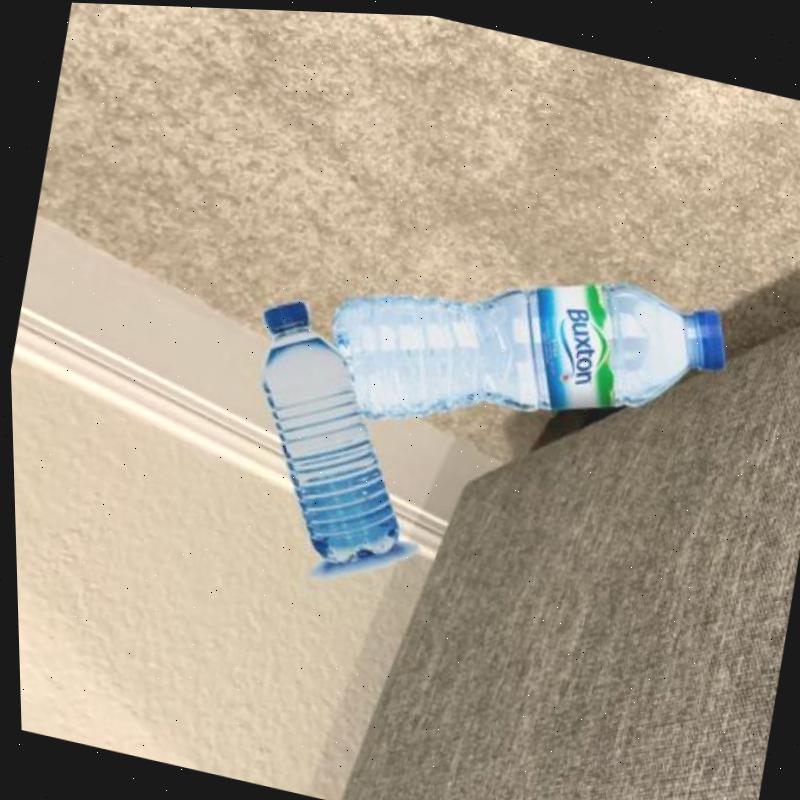botella: (309, 210, 734, 487), (207, 287, 435, 580)
